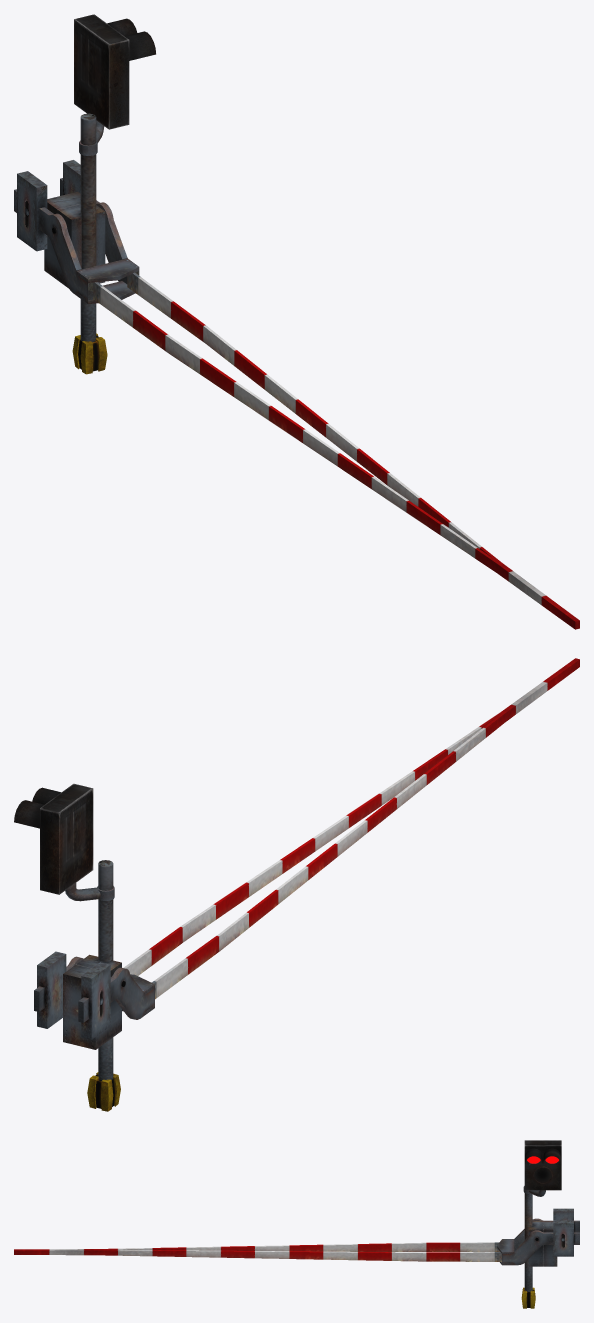
The model's file is LevelCrossing_ALL.FBX.
3 renders of one model, top to bottom at view 1: azimuth 30°, elevation 25°; view 2: azimuth 150°, elevation 25°; view 3: azimuth 270°, elevation 25°, orthographic. The views are drawn at different scales.
Visible parts, largest first — view 1: Arm_LOD0, Main_LOD0; view 2: Arm_LOD0, Main_LOD0; view 3: Arm_LOD0, Main_LOD0.
Part boxes in pixels (<box>): Arm_LOD0: <box>14,160,579,629</box>; Main_LOD0: <box>44,14,155,374</box>; Arm_LOD0: <box>34,658,579,1039</box>; Main_LOD0: <box>14,783,121,1111</box>; Arm_LOD0: <box>14,1208,579,1265</box>; Main_LOD0: <box>521,1140,561,1308</box>.
Size of what is drawn, in the model's own units: 1030 by 3431 by 10371.
